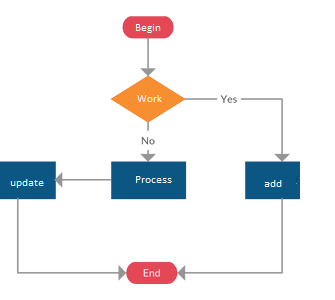arrow: (15, 197, 127, 281), (177, 196, 285, 281), (183, 97, 290, 164), (54, 171, 111, 187), (139, 36, 157, 77), (140, 121, 157, 161)
decision: (110, 74, 187, 123)
process: (109, 159, 188, 200), (243, 160, 301, 200), (1, 160, 58, 200)
terminator: (121, 15, 175, 40), (123, 261, 179, 285)
text: (134, 174, 173, 185), (8, 178, 44, 189), (135, 92, 164, 104), (134, 22, 161, 34), (218, 93, 239, 104), (143, 267, 162, 278), (263, 179, 282, 188), (140, 135, 155, 145)
